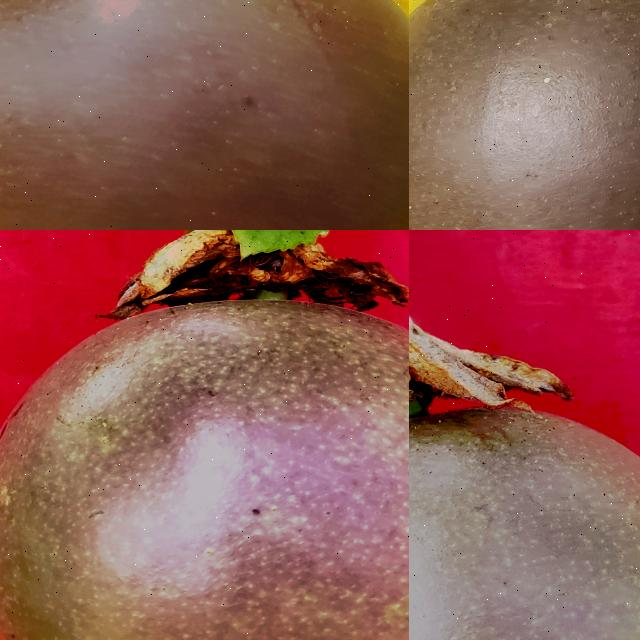Estado-2: (0, 230, 409, 640), (409, 318, 640, 640)
Estado-6: (409, 0, 640, 230)
